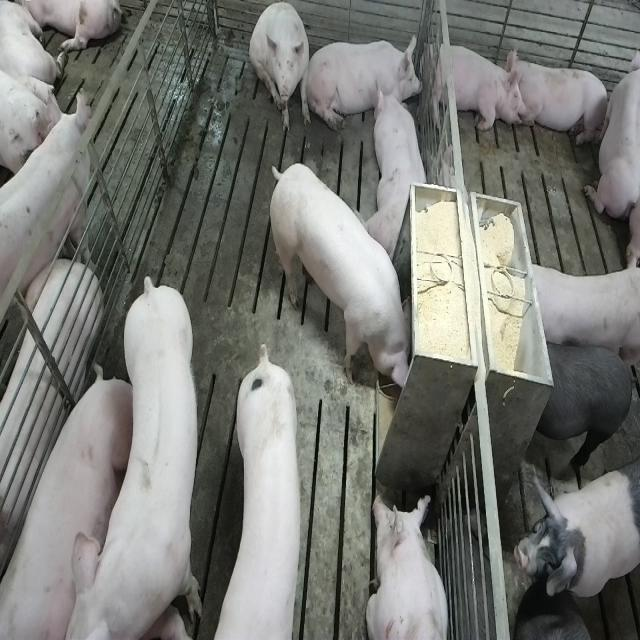Feeding: (265, 162, 411, 392)
Lateral_lying: (0, 371, 131, 640), (0, 263, 101, 607)
Sitting: (250, 2, 311, 136)
Standing: (68, 271, 205, 636), (217, 349, 306, 640), (0, 93, 91, 335), (512, 468, 636, 606), (532, 335, 638, 473), (520, 256, 638, 366), (510, 610, 607, 640)
Sternal_lying: (367, 490, 450, 640), (370, 82, 431, 262), (312, 32, 421, 132), (508, 50, 612, 150), (583, 35, 637, 222), (425, 36, 523, 134)
